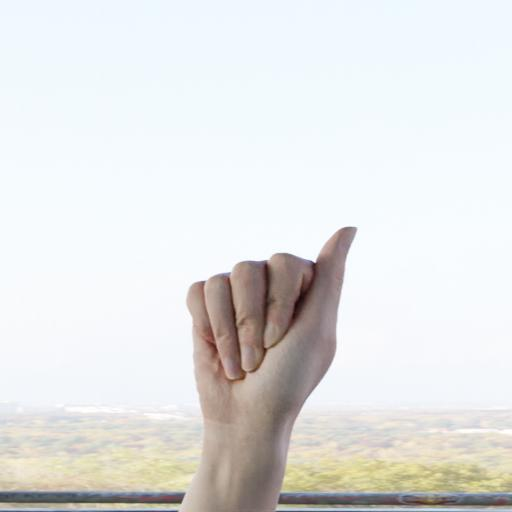A: (184, 217, 361, 434)
